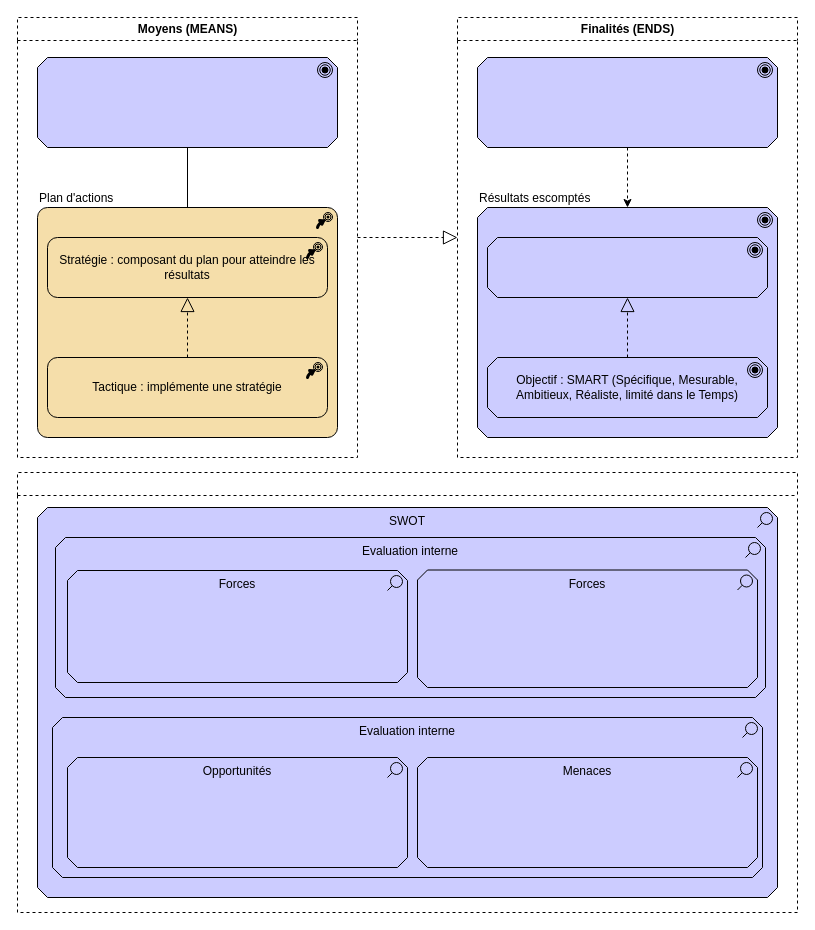
The diagram is 815 pixels wide and 930 high, and some of its shapes have lost their labels. Each missing label, with the centre of its shape:
But : qualitatif - long terme: (627,267)
Evaluation: (407,692)
Mission : état actuel de l'entreprise: (187,102)
Vision : état futur que l'entreprise devrait atteindre: (627,102)
